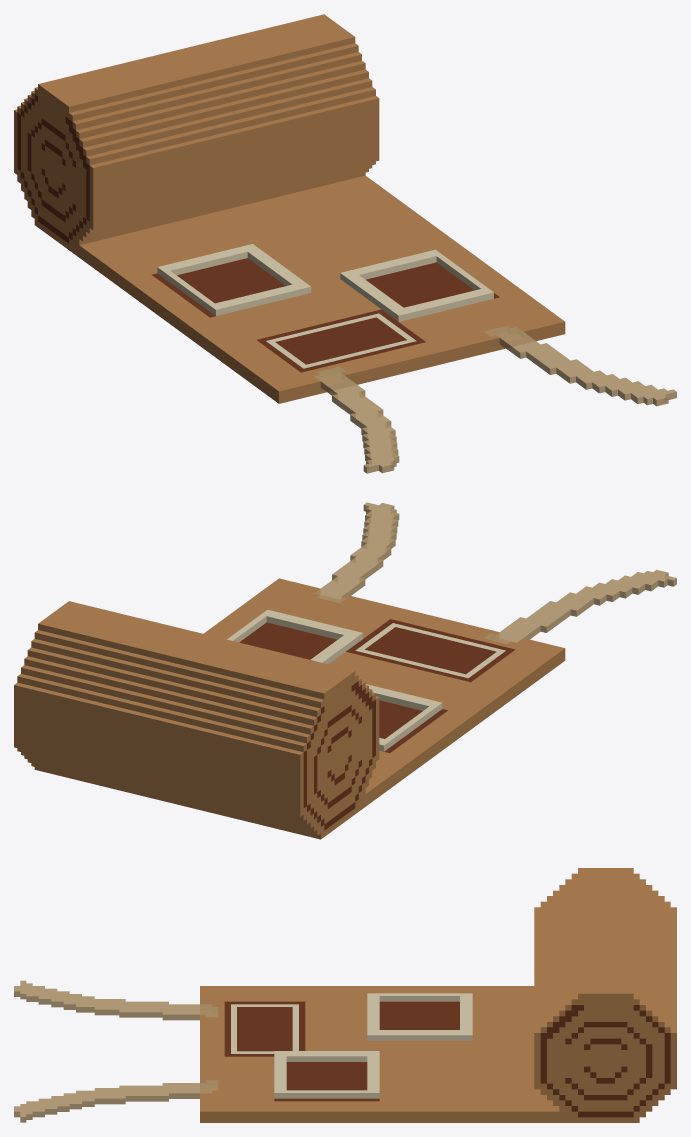
Rendered from bellywrap_leather.glb.
The picture shows the model from 3 angles, top to bottom: view 1: azimuth 30°, elevation 25°; view 2: azimuth 150°, elevation 25°; view 3: azimuth 270°, elevation 25°; orthographic projection. The views are drawn at different scales.
Parts seen in each view (by area): view 1: bellywrap_leather:compound; view 2: bellywrap_leather:compound; view 3: bellywrap_leather:compound.
Part boxes in pixels (x1,y1,x2,y2): bellywrap_leather:compound: [14, 14, 676, 473]; bellywrap_leather:compound: [14, 502, 676, 839]; bellywrap_leather:compound: [14, 868, 676, 1122].
Size of the model in its own units: 0.208 by 0.092 by 0.428.
